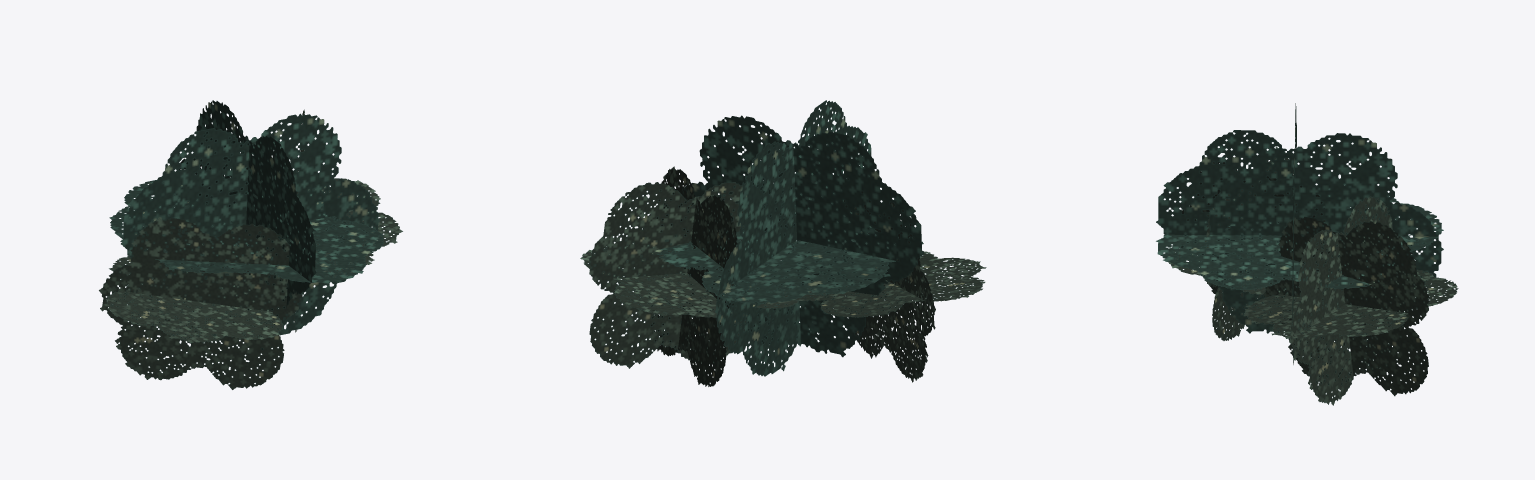
The model's file is SM_Forest_Shrub_C_200x170x130.fbx.
3 renders of one model, left to right at view 1: azimuth 30°, elevation 25°; view 2: azimuth 150°, elevation 25°; view 3: azimuth 270°, elevation 25°, orthographic. The views are drawn at different scales.
Parts seen in each view (by area): view 1: SM_Forest_Shrub_C_200x170x130.083; view 2: SM_Forest_Shrub_C_200x170x130.083; view 3: SM_Forest_Shrub_C_200x170x130.083.
Part boxes in pixels (x1=…): SM_Forest_Shrub_C_200x170x130.083: x1=99, y1=100, x2=402, y2=389; SM_Forest_Shrub_C_200x170x130.083: x1=580, y1=100, x2=986, y2=386; SM_Forest_Shrub_C_200x170x130.083: x1=1156, y1=103, x2=1458, y2=405.
Size of the model in its own units: 1.99 by 1.37 by 1.69.
